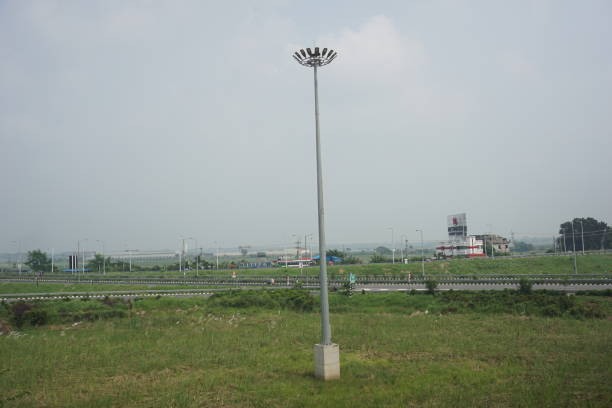light_pole: (312, 74, 338, 380)
